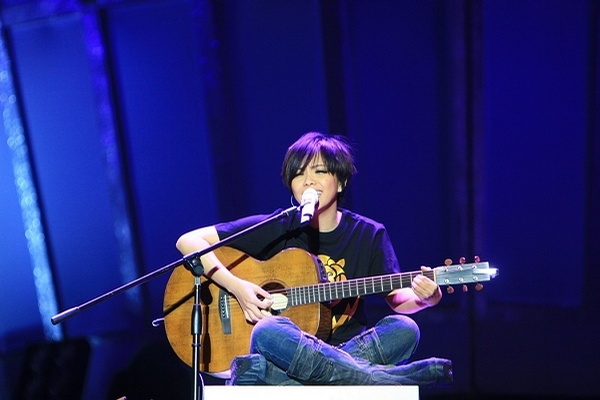face: (292, 158, 338, 209)
